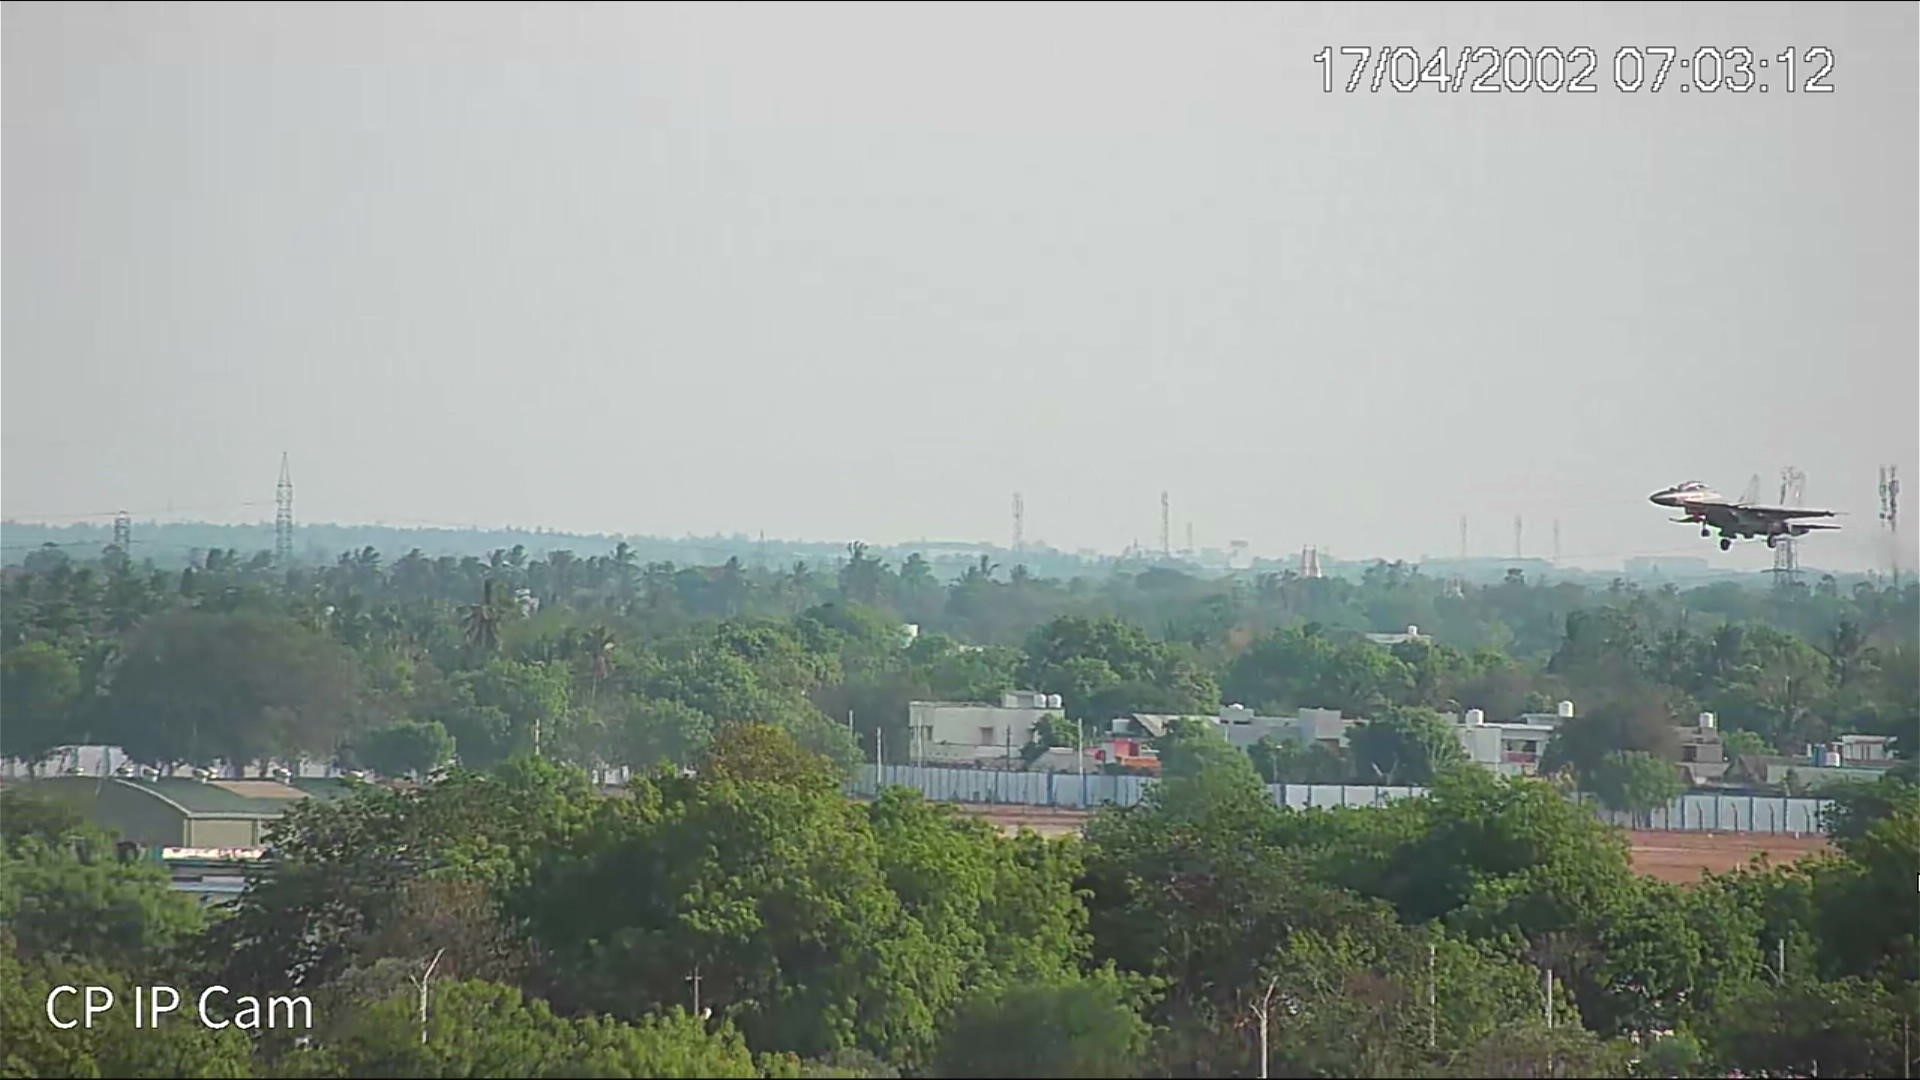SU_30: (1640, 472, 1850, 551)
